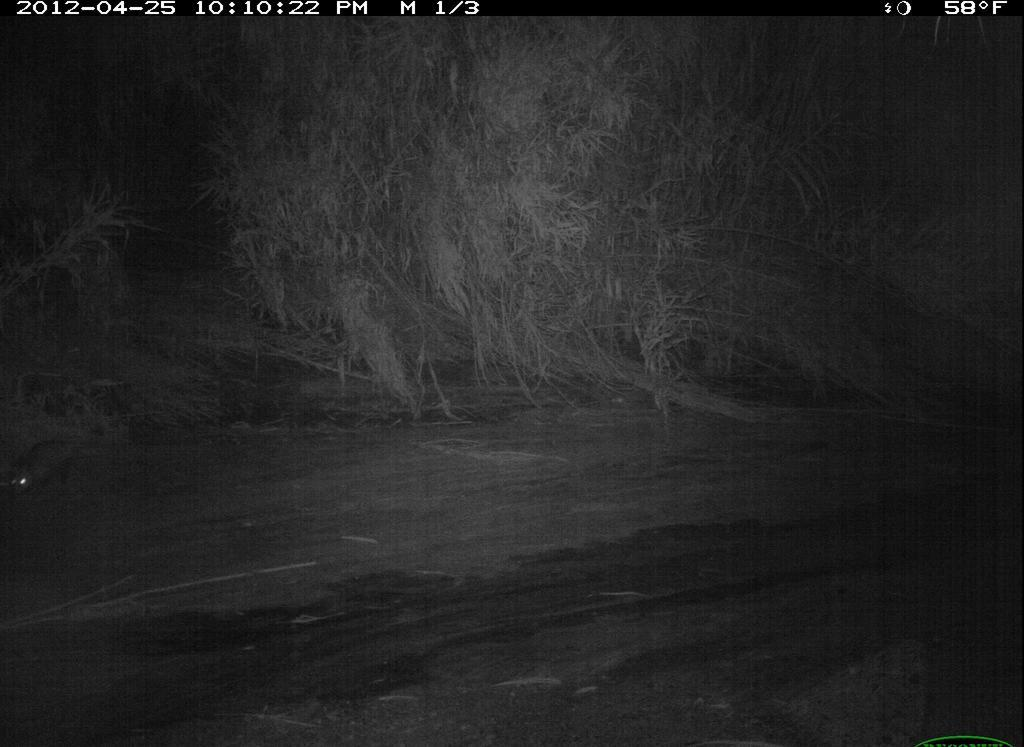opossum: (1, 431, 105, 509)
